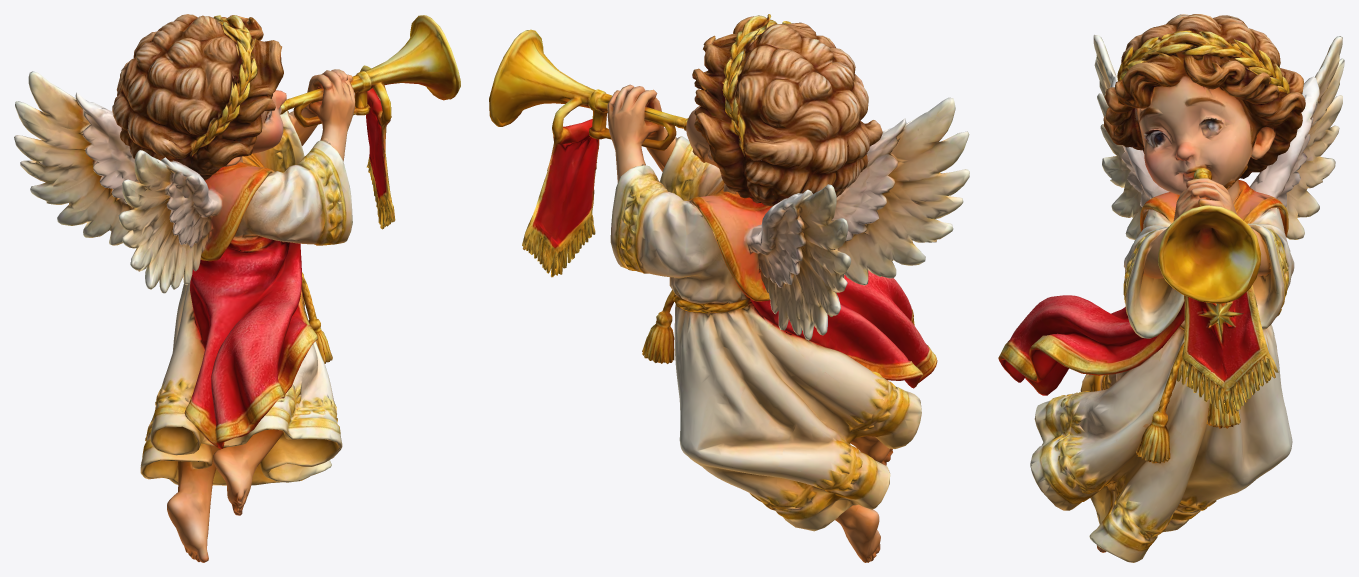
File: angel-trumpet.glb
The picture shows the model from 3 angles, left to right: view 1: azimuth 30°, elevation 25°; view 2: azimuth 150°, elevation 25°; view 3: azimuth 270°, elevation 25°; orthographic projection. The views are drawn at different scales.
Parts seen in each view (by area): view 1: tripo_node_1f04d556-a197-41ce-86f9-416db7607cf2; view 2: tripo_node_1f04d556-a197-41ce-86f9-416db7607cf2; view 3: tripo_node_1f04d556-a197-41ce-86f9-416db7607cf2.
Boxes of the visible parts, left/top/right/bottom form: tripo_node_1f04d556-a197-41ce-86f9-416db7607cf2: left=14, top=14, right=460, bottom=562; tripo_node_1f04d556-a197-41ce-86f9-416db7607cf2: left=489, top=14, right=969, bottom=562; tripo_node_1f04d556-a197-41ce-86f9-416db7607cf2: left=998, top=14, right=1344, bottom=562.
Bounding box in the file's own units: 0.7543 × 0.9793 × 0.5457.
1 material, 1 textured.
